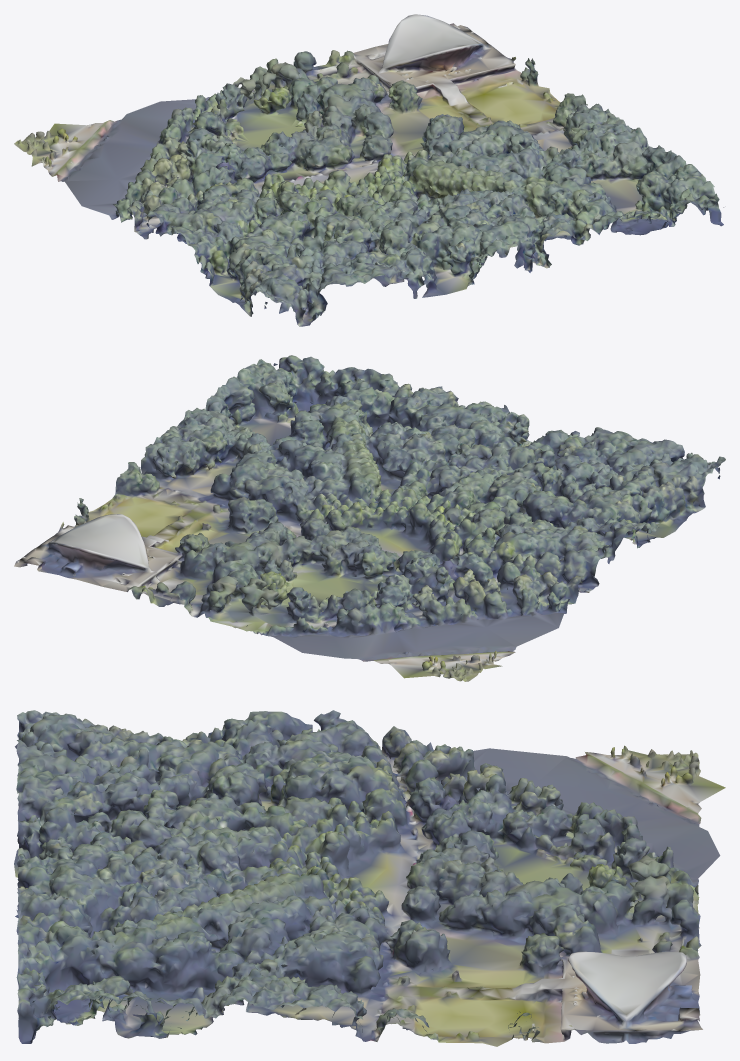
File: tile-3887_58196.glb
The picture shows the model from 3 angles, top to bottom: view 1: azimuth 30°, elevation 25°; view 2: azimuth 150°, elevation 25°; view 3: azimuth 270°, elevation 25°; orthographic projection. The views are drawn at different scales.
Parts seen in each view (by area): view 1: world; view 2: world; view 3: world.
Part boxes in pixels (x1=…): world: x1=14, y1=14, x2=723, y2=326; world: x1=14, y1=355, x2=725, y2=681; world: x1=14, y1=710, x2=725, y2=1046.
Size of the model in its own units: 376 by 33.81 by 378.
